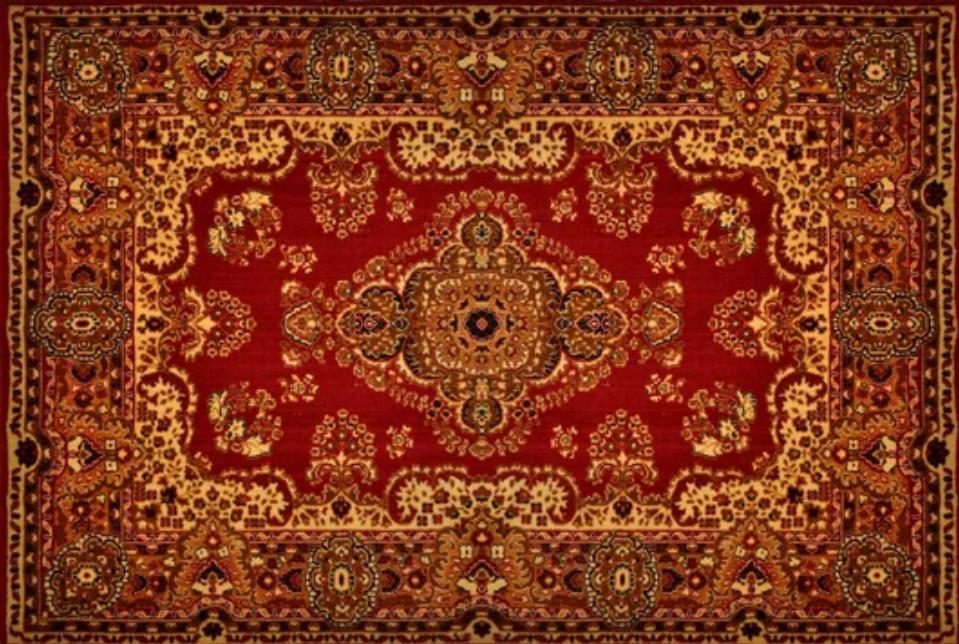carpet: (7, 4, 959, 642)
